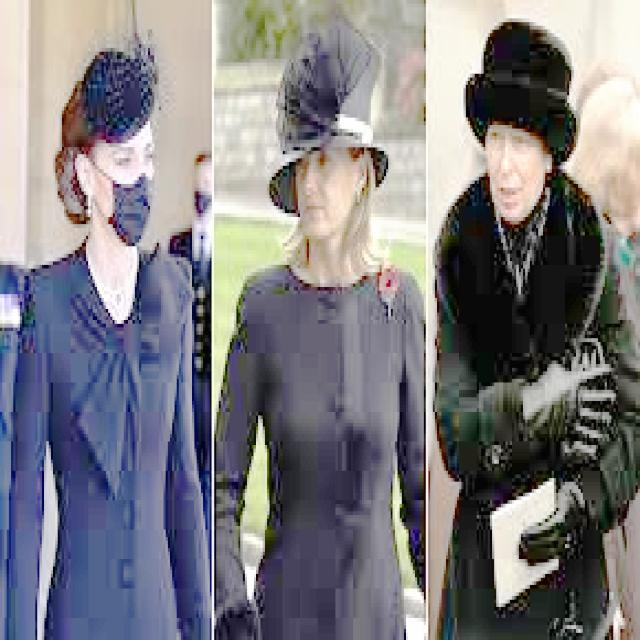TOPI: (258, 11, 393, 213), (457, 8, 578, 170), (60, 40, 161, 144)
